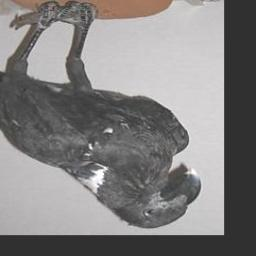Crow: (0, 0, 205, 230)
